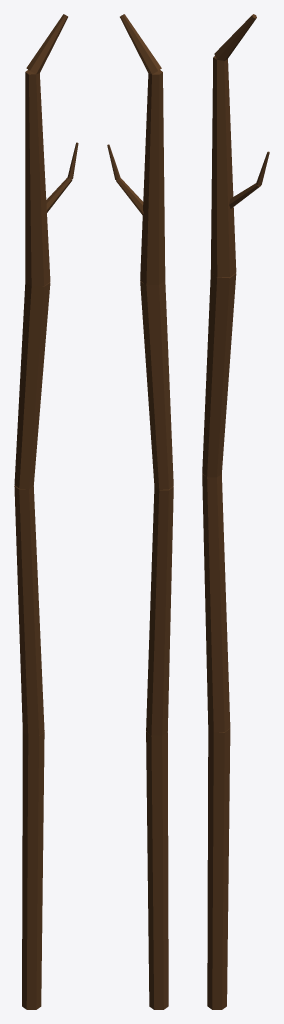
The model's file is staff.obj.
The picture shows the model from 3 angles, left to right: view 1: azimuth 30°, elevation 25°; view 2: azimuth 150°, elevation 25°; view 3: azimuth 330°, elevation 25°; orthographic projection.
Visible parts, largest first — view 1: Staff_branch_00, Staff_branch_01, Staff_branch_02, Staff_branch_03, Staff_branch_04, Staff_branch_05; view 2: Staff_branch_00, Staff_branch_01, Staff_branch_02, Staff_branch_03, Staff_branch_04, Staff_branch_05; view 3: Staff_branch_00, Staff_branch_01, Staff_branch_02, Staff_branch_03, Staff_branch_04, Staff_branch_05.
Boxes of the visible parts, x1,y1,x2,y2 form: Staff_branch_00: (22, 732, 44, 1009); Staff_branch_01: (14, 486, 44, 735); Staff_branch_02: (14, 282, 50, 489); Staff_branch_03: (25, 69, 50, 286); Staff_branch_04: (26, 14, 67, 74); Staff_branch_05: (46, 177, 72, 212); Staff_branch_00: (146, 731, 168, 1009); Staff_branch_01: (146, 486, 173, 735); Staff_branch_02: (140, 281, 173, 489); Staff_branch_03: (140, 70, 165, 285); Staff_branch_04: (120, 14, 161, 74); Staff_branch_05: (116, 178, 143, 214); Staff_branch_00: (207, 728, 230, 1009); Staff_branch_01: (202, 473, 230, 732); Staff_branch_02: (202, 272, 236, 477); Staff_branch_03: (210, 56, 236, 277); Staff_branch_04: (214, 14, 256, 60); Staff_branch_05: (229, 183, 260, 208).
Bounding box in the file's own units: 0.2988 × 4.49 × 0.104.
